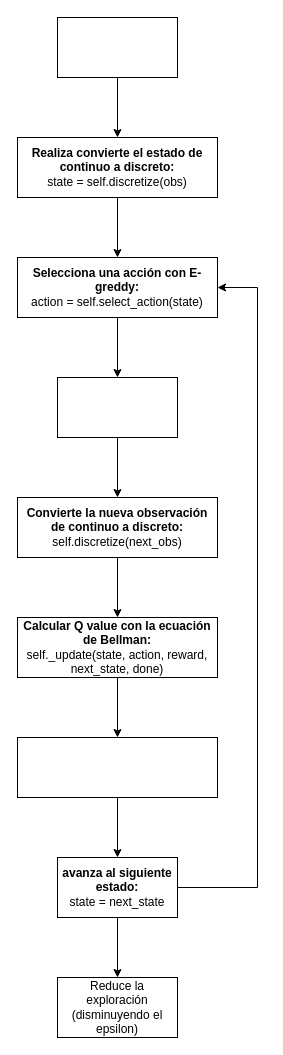
Image size: 283x1055. Some labels were removed from this diagram. The centre of each missing label's shape, as x and y in pixels:
Actualiza el Q-table: self.q_table[state][action] += self.lr * td_error: the point at 117,767
Ejecuta la acción en el entorno: env.step(action): the point at 117,407
Observa el entorno: env.reset(): the point at 117,47
